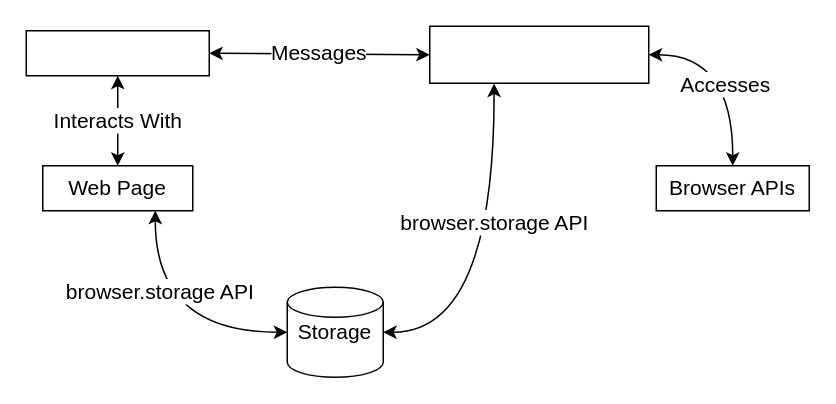
This 836x404 diagram has some shape labels left out. The centre of each missing label's shape, as x and y in pixels:
"Content Scripts" goes at (117,52).
"Extension Service Worker" goes at (538,54).
